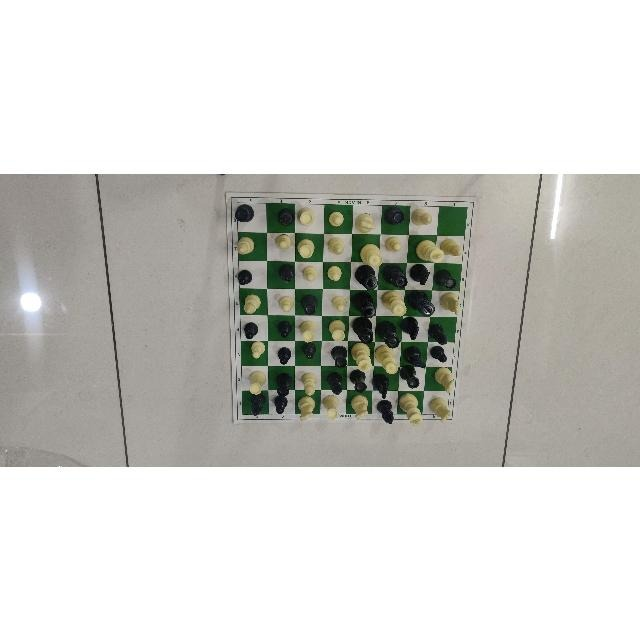black-bishop: (427, 323, 449, 345), (249, 391, 267, 416), (377, 399, 394, 425), (326, 371, 343, 395), (277, 262, 295, 282), (279, 207, 295, 225)
black-king: (407, 290, 434, 316), (351, 290, 376, 316), (354, 262, 378, 289)
black-knight: (410, 261, 431, 285), (401, 315, 420, 340), (404, 346, 426, 366), (372, 373, 390, 397)
black-pawn: (273, 393, 288, 415), (299, 342, 317, 360), (276, 319, 293, 336), (276, 347, 292, 365), (430, 345, 448, 361), (238, 267, 254, 284), (242, 322, 257, 340)
black-queen: (376, 320, 399, 348), (383, 262, 408, 287), (352, 316, 374, 343)
black-rook: (435, 268, 459, 290), (399, 364, 420, 388), (274, 372, 293, 396), (349, 368, 368, 392), (299, 293, 319, 315), (384, 204, 406, 223), (235, 203, 255, 223), (331, 344, 348, 366)
white-bishop: (242, 293, 262, 315), (302, 371, 318, 395), (444, 238, 463, 257), (235, 234, 254, 253), (412, 208, 432, 226), (328, 236, 346, 255)
white-king: (399, 391, 424, 425), (416, 238, 444, 262), (352, 341, 372, 371)
white-knight: (429, 396, 452, 422), (433, 365, 454, 392), (350, 394, 370, 419), (440, 290, 460, 315), (298, 396, 316, 422), (354, 212, 375, 232)
white-pawn: (249, 340, 266, 357), (302, 265, 318, 282), (329, 210, 345, 226), (326, 265, 342, 281), (385, 237, 403, 251), (277, 233, 293, 248), (279, 295, 294, 310), (333, 296, 347, 312)
white-queen: (375, 344, 399, 374), (381, 288, 406, 316), (360, 241, 383, 266)
white-rook: (249, 368, 267, 393), (323, 395, 339, 419), (296, 238, 315, 258), (328, 319, 346, 340), (299, 320, 316, 342), (297, 206, 315, 226)
